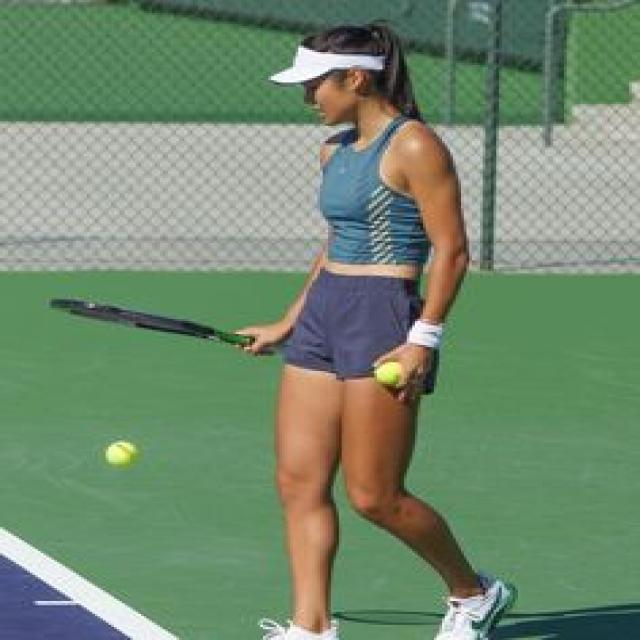tennis: (376, 359, 414, 389), (104, 440, 140, 468)
